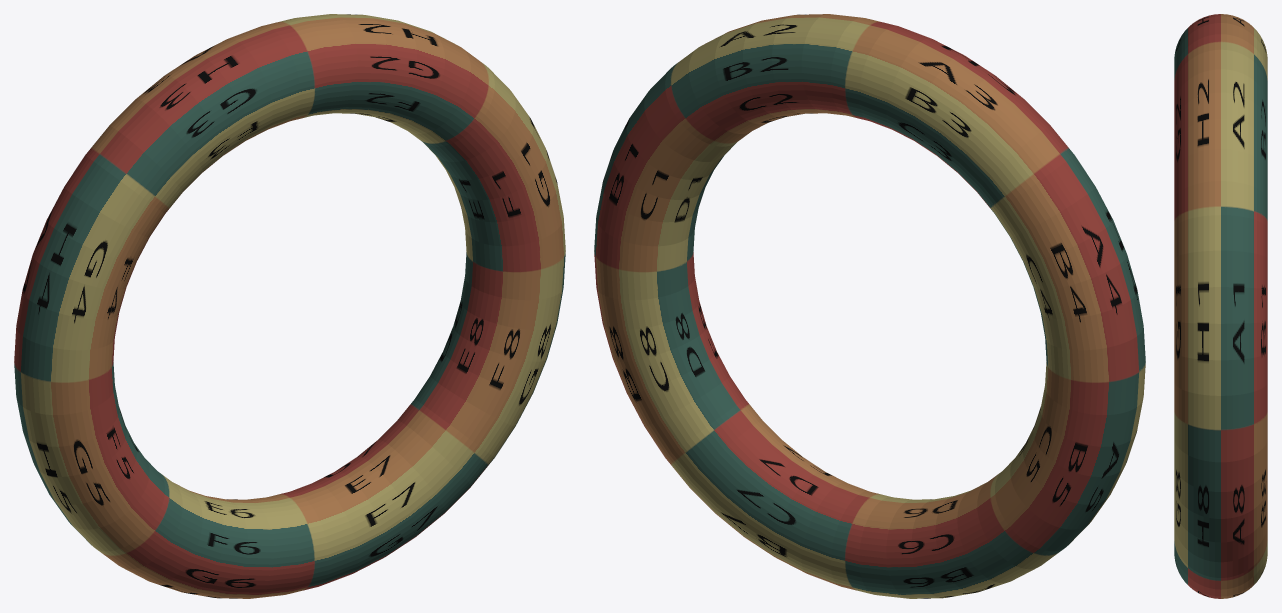
Rendered from texture_torus_R26_r12.glb.
3 views of the same model, side by side, from view 1: azimuth 30°, elevation 25°; view 2: azimuth 150°, elevation 25°; view 3: azimuth 270°, elevation 25° (orthographic). The views are drawn at different scales.
Parts seen in each view (by area): view 1: world; view 2: world; view 3: world.
Boxes of the visible parts, x1,y1,x2,y2 form: world: (14,14,565,598); world: (594,14,1145,598); world: (1174,14,1267,598).
Bounding box in the file's own units: 32.53 × 32.47 × 5.19.
Materials: 1 (1 with a texture image).
